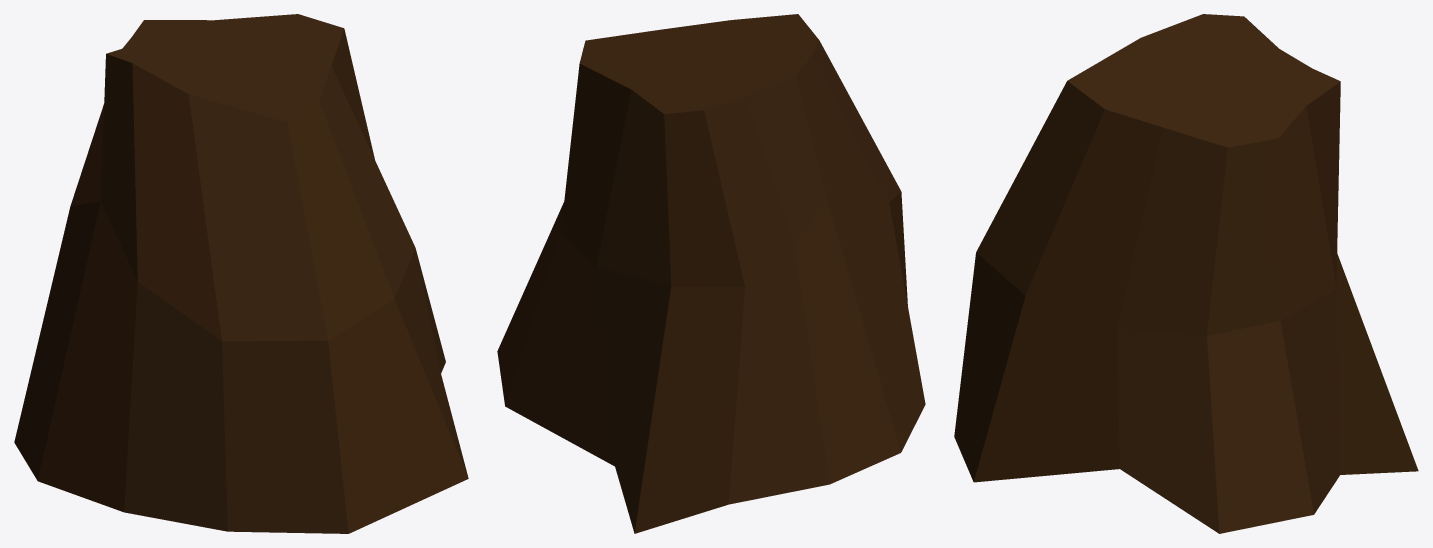
Rendered from Treestomp_01.fbx.
3 renders of one model, left to right at view 1: azimuth 30°, elevation 25°; view 2: azimuth 150°, elevation 25°; view 3: azimuth 270°, elevation 25°, orthographic. The views are drawn at different scales.
Parts seen in each view (by area): view 1: Cylinder; view 2: Cylinder; view 3: Cylinder.
Boxes of the visible parts, x1=… form: Cylinder: x1=14, y1=14, x2=468, y2=533; Cylinder: x1=497, y1=14, x2=925, y2=533; Cylinder: x1=954, y1=14, x2=1418, y2=533.
Bounding box in the file's own units: 242 × 243 × 242.
